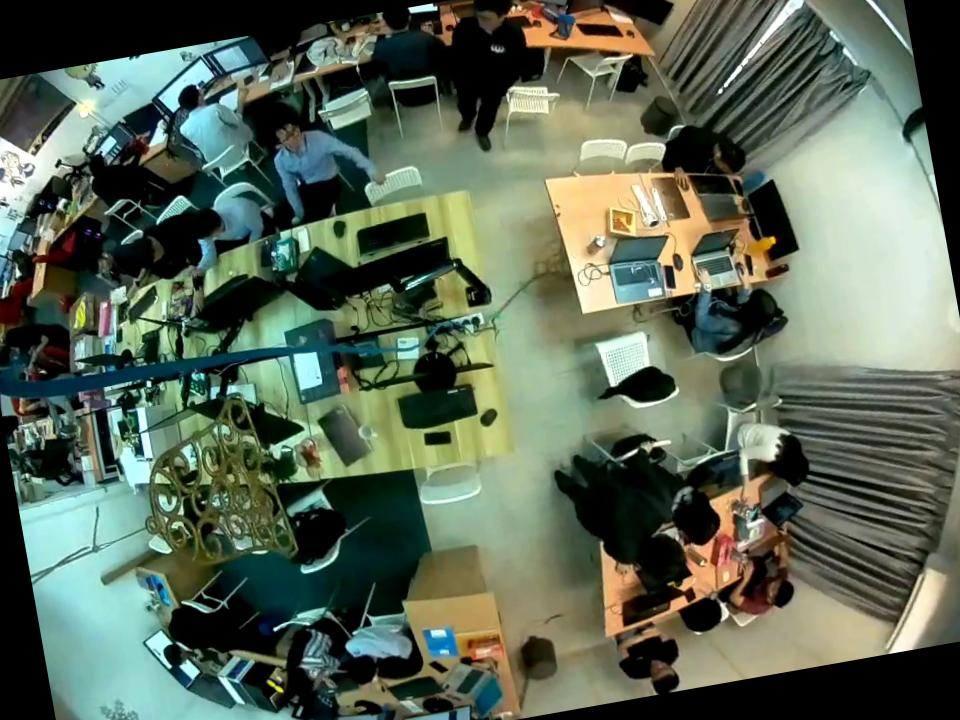employee_tag: (488, 40, 507, 56)
